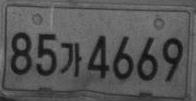4: (86, 35, 109, 79)
5: (35, 32, 57, 76)
6: (111, 36, 134, 81), (136, 37, 158, 81)
8: (9, 31, 32, 75)
9: (161, 37, 183, 81)
가: (59, 42, 82, 76)
